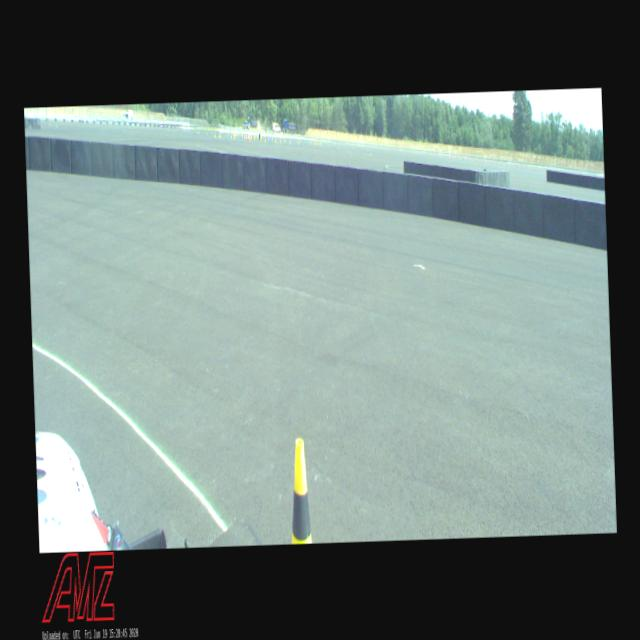yellow_cone: (288, 438, 312, 544)
